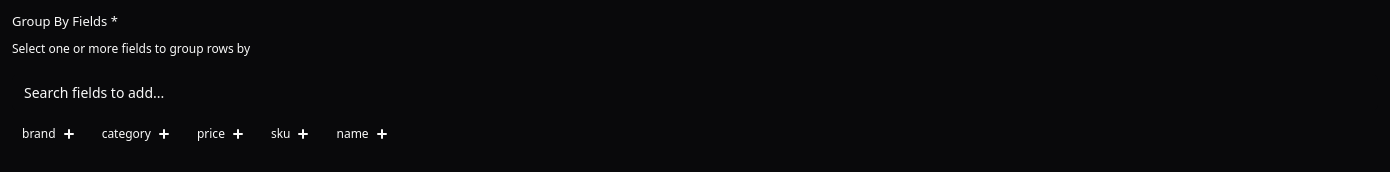
Test case: GroupByPicker › filters columns based on search term
Type "cat" into the field with placeholder "Search fields to add..." at coordinates (695, 92), box [12, 74, 1378, 110]
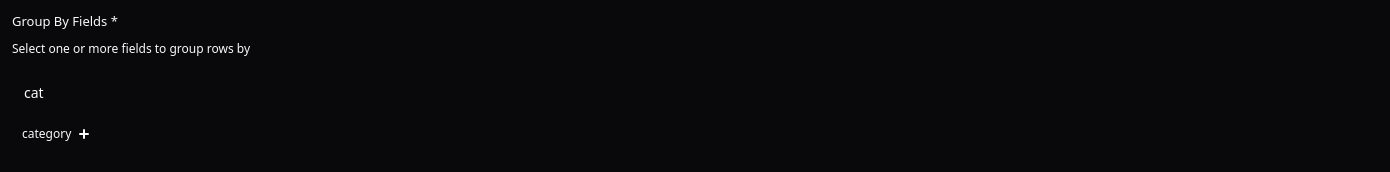
Expected: the text "category" is shown, [22, 124, 71, 142]
Now the button "brand" is gone
